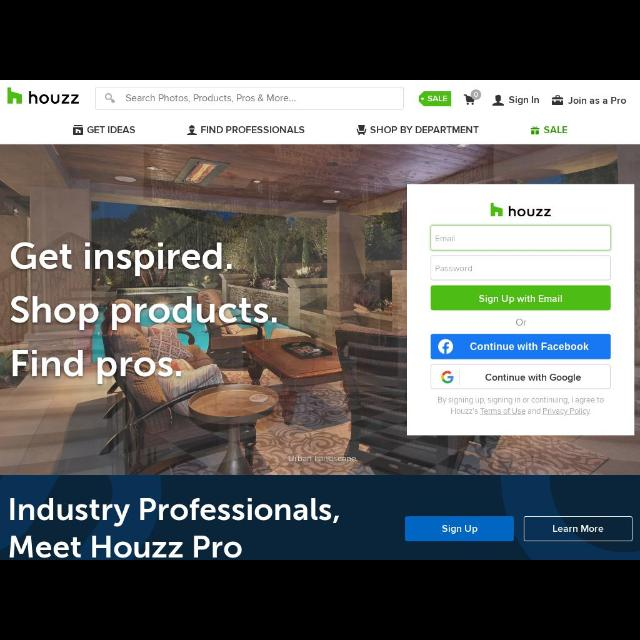backgroundimage: (1, 143, 639, 475)
icon: (464, 90, 481, 106), (492, 94, 504, 106), (551, 94, 563, 104), (357, 124, 367, 136), (187, 124, 197, 136), (72, 124, 84, 134), (104, 94, 114, 104), (531, 125, 539, 135)
image: (9, 87, 80, 107), (489, 202, 553, 220), (438, 338, 454, 356), (441, 370, 454, 384)
input: (96, 88, 404, 109), (430, 225, 610, 251), (431, 256, 609, 280)
text: (12, 242, 278, 384), (9, 496, 339, 558), (438, 396, 604, 414), (126, 94, 298, 102), (200, 124, 304, 136), (470, 342, 590, 352), (480, 294, 564, 306), (484, 374, 582, 384), (371, 125, 479, 133), (552, 524, 604, 536), (569, 97, 627, 107), (88, 126, 136, 134), (508, 95, 538, 107), (442, 525, 478, 535), (434, 264, 474, 272), (544, 125, 566, 135), (427, 95, 448, 104), (434, 236, 456, 244), (515, 318, 527, 328)
textbutton: (433, 364, 611, 390), (432, 336, 610, 358), (404, 516, 514, 540), (525, 516, 633, 540)
